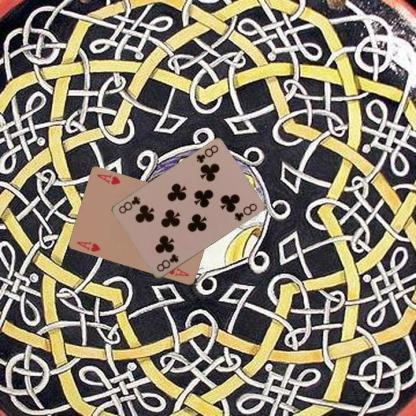8c: (194, 142, 220, 165), (154, 251, 180, 273)
Ah: (75, 239, 102, 253)
